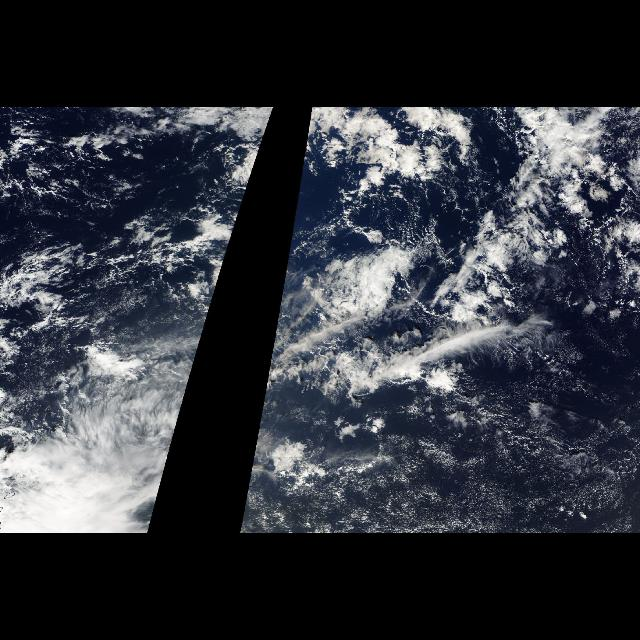Gravel: (8, 115, 252, 358)
Sugar: (300, 377, 640, 533)
